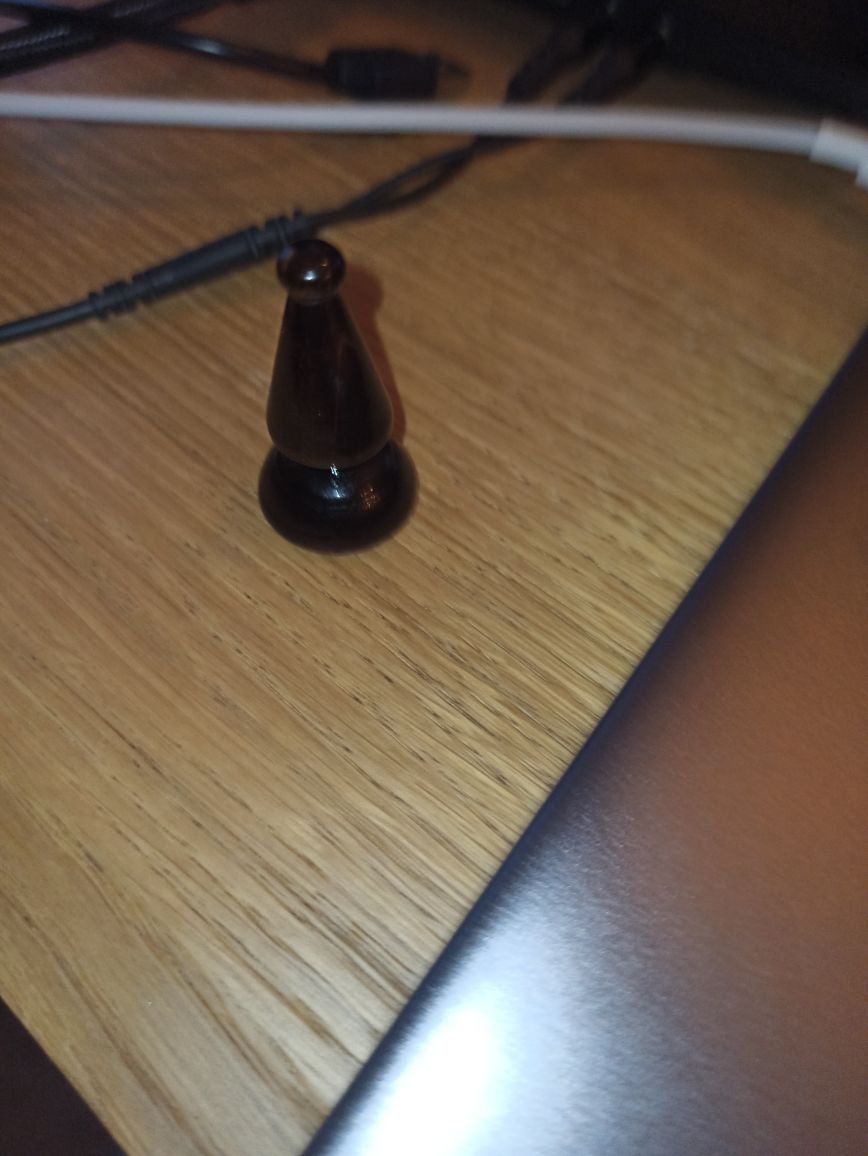bbishop: (257, 240, 417, 553)
